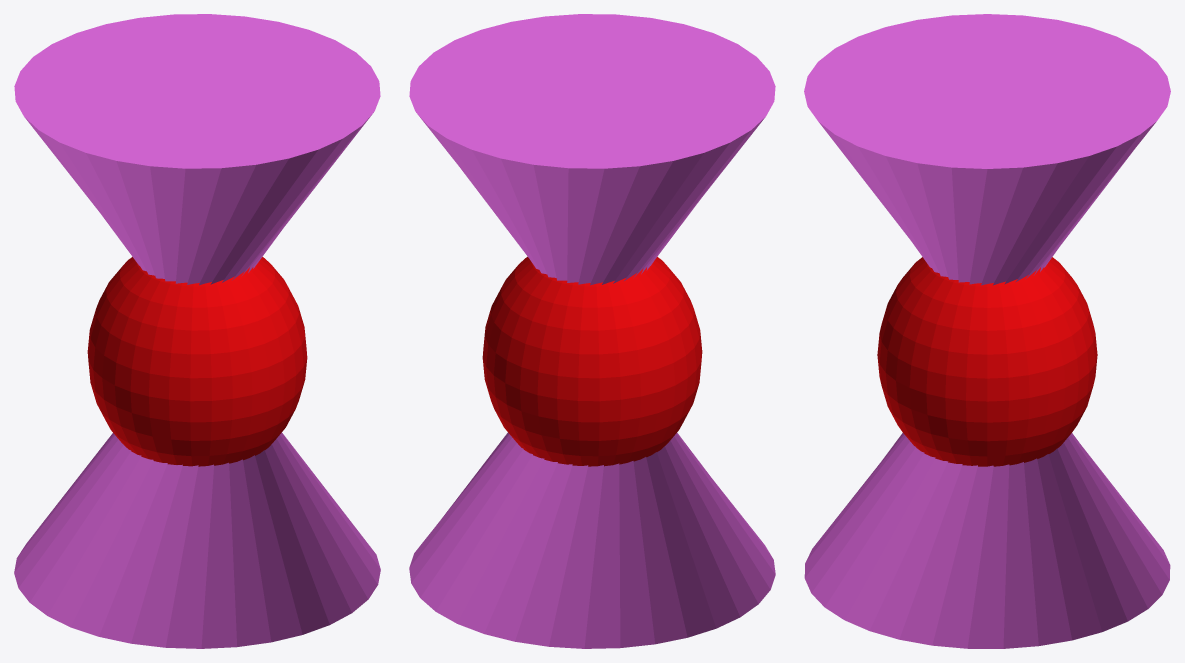
File: candy.fbx
The picture shows the model from 3 angles, left to right: view 1: azimuth 30°, elevation 25°; view 2: azimuth 150°, elevation 25°; view 3: azimuth 270°, elevation 25°; orthographic projection.
Parts seen in each view (by area): view 1: Cylinder, Sphere; view 2: Cylinder, Sphere; view 3: Cylinder, Sphere.
Boxes of the visible parts, x1,y1,x2,y2 form: Cylinder: (14,14,380,648); Sphere: (87,257,307,466); Cylinder: (409,14,775,648); Sphere: (482,256,702,466); Cylinder: (804,14,1170,648); Sphere: (877,257,1097,466).
Bounding box in the file's own units: 200 × 289 × 200.
